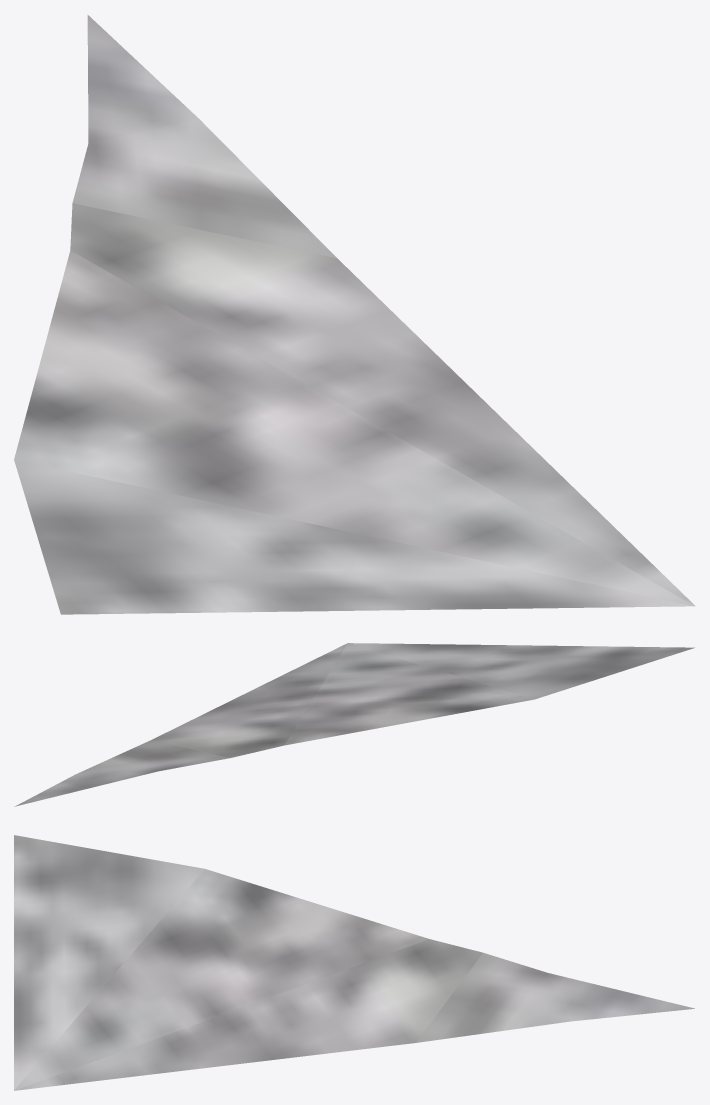
3 renders of one model, top to bottom at view 1: azimuth 30°, elevation 25°; view 2: azimuth 150°, elevation 25°; view 3: azimuth 270°, elevation 25°, orthographic. The views are drawn at different scales.
Bounding box in the file's own units: 0.1148 × 0.0253 × 0.1904.
1 material, 1 textured.
